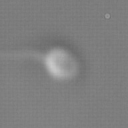normal: (1, 40, 47, 63)
